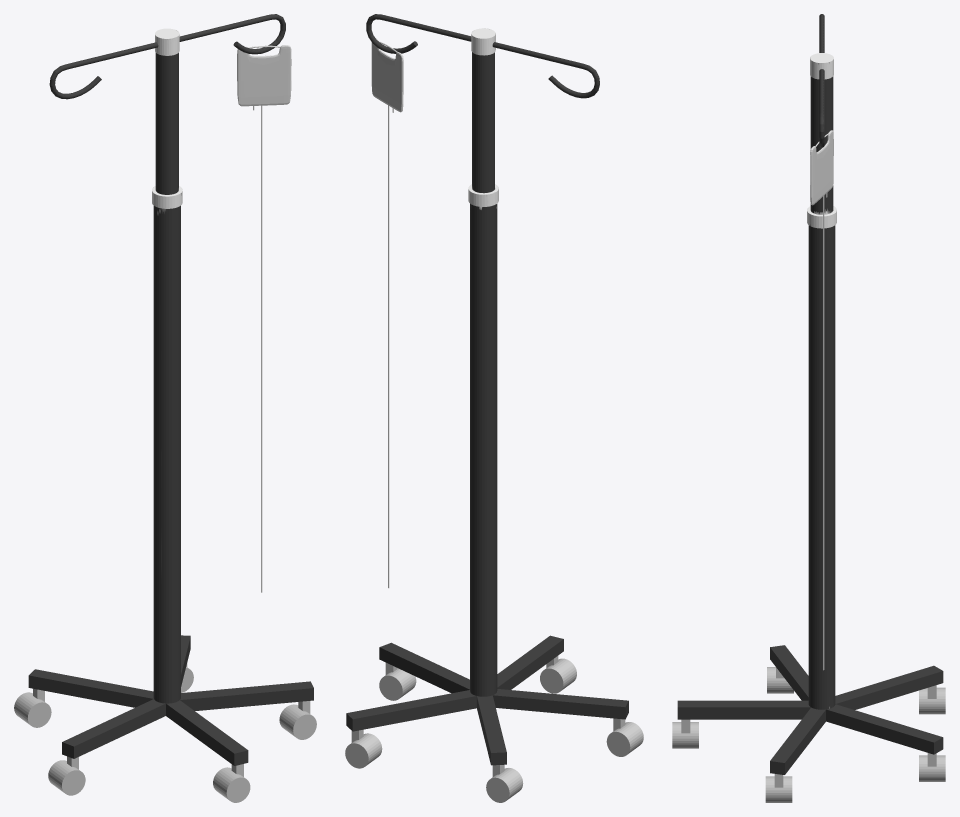
Rendered from Hospital_Fluid_Bag_Holder.fbx.
3 views of the same model, side by side, from view 1: azimuth 30°, elevation 25°; view 2: azimuth 150°, elevation 25°; view 3: azimuth 270°, elevation 25° (orthographic). The views are drawn at different scales.
Visible parts, largest first — view 1: Cylinder, Circle, Cube, Cylinder.006, Cylinder.003, Cylinder.002, Cylinder.005, Cylinder.001, Cylinder.009; view 2: Cylinder, Circle, Cylinder.006, Cube, Cylinder.004, Cylinder.001, Cylinder.005, Cylinder.002, Cylinder.009, Cylinder.003; view 3: Cylinder, Circle, Cube, Cylinder.009, Cylinder.003, Cylinder.002, Cylinder.005, Cylinder.004, Cylinder.006, Cylinder.001.
Boxes of the visible parts, <box> form: Cylinder: <box>152,28,182,703</box>; Circle: <box>28,635,313,765</box>; Cube: <box>237,45,291,106</box>; Cylinder.006: <box>49,14,285,99</box>; Cylinder.003: <box>279,701,316,739</box>; Cylinder.002: <box>213,764,250,802</box>; Cylinder.005: <box>14,688,51,727</box>; Cylinder.001: <box>48,756,85,795</box>; Cylinder.009: <box>261,105,262,592</box>; Cylinder: <box>468,28,498,696</box>; Circle: <box>346,635,628,765</box>; Cylinder.006: <box>366,14,599,98</box>; Cube: <box>371,38,403,112</box>; Cylinder.004: <box>345,729,382,768</box>; Cylinder.001: <box>606,718,643,756</box>; Cylinder.005: <box>486,764,523,802</box>; Cylinder.002: <box>540,656,576,693</box>; Cylinder.009: <box>388,104,389,588</box>; Cylinder.003: <box>379,662,416,700</box>; Cylinder: <box>807,53,836,709</box>; Circle: <box>677,645,943,774</box>; Cube: <box>810,130,833,205</box>; Cylinder.009: <box>823,195,824,670</box>; Cylinder.003: <box>765,774,792,802</box>; Cylinder.002: <box>672,719,698,748</box>; Cylinder.005: <box>919,685,945,714</box>; Cylinder.004: <box>919,753,945,781</box>; Cylinder.006: <box>819,14,824,147</box>; Cylinder.001: <box>767,667,793,693</box>.
Size of the model in its own units: 2171 by 5722 by 2047.
